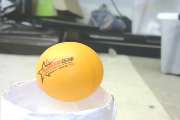PingPongBall: (37, 42, 104, 102)
